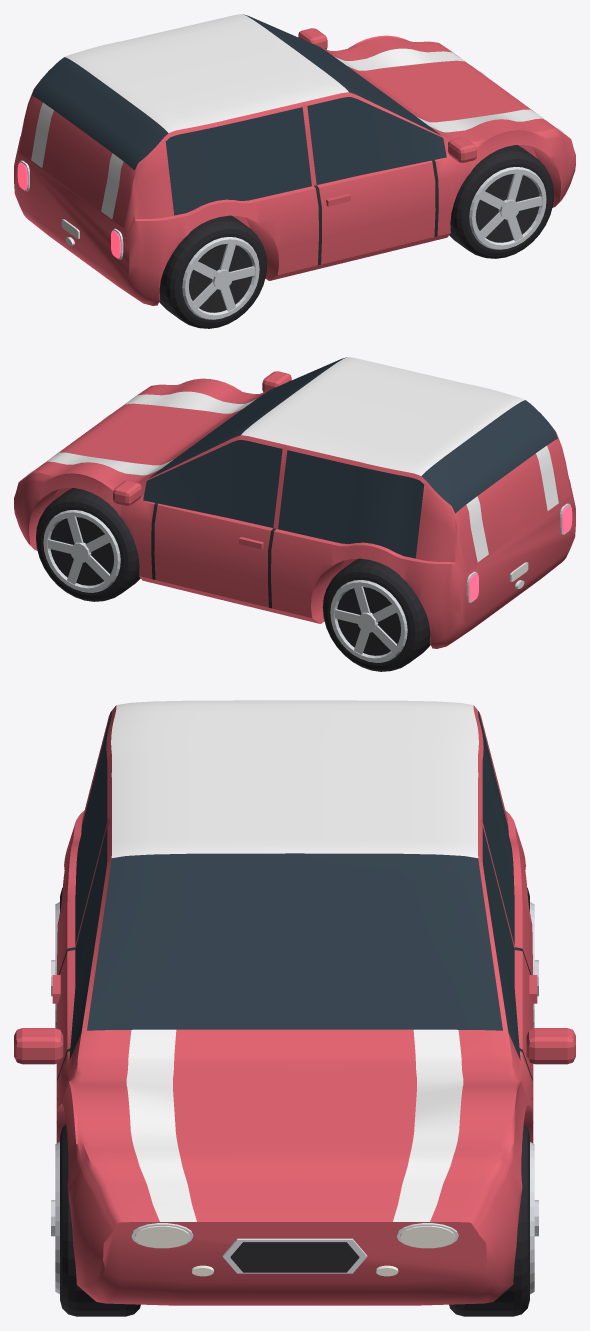
The model's file is mini_kooper.fbx.
3 views of the same model, one above another, from view 1: azimuth 30°, elevation 25°; view 2: azimuth 150°, elevation 25°; view 3: azimuth 270°, elevation 25° (orthographic). The views are drawn at different scales.
Visible parts, largest first — view 1: Body.021, Glass.021, Stripe.003, Tire.021, Rim.021, Trim.021, TailLight.021; view 2: Body.021, Glass.021, Stripe.003, Tire.021, Rim.021, Trim.021, TailLight.021; view 3: Body.021, Glass.021, Stripe.003, Tire.021, Trim.021, Rim.021, HeadLight.021, Chrome.019.
Part boxes in pixels (x1,y1,x2,y2): Body.021: (14,28,575,305); Glass.021: (32,14,446,215); Stripe.003: (31,14,557,219); Tire.021: (159,145,553,328); Rim.021: (182,167,546,319); Trim.021: (189,160,539,312); TailLight.021: (17,162,120,258); Body.021: (14,371,575,648); Glass.021: (143,357,557,558); Stripe.003: (32,357,558,562); Tire.021: (36,488,430,671); Rim.021: (43,510,407,662); Trim.021: (151,503,400,655); TailLight.021: (469,505,572,601); Body.021: (14,705,575,1305); Glass.021: (69,711,520,1060); Stripe.003: (111,700,478,1221); Tire.021: (60,888,529,1316); Trim.021: (56,947,533,1272); Rim.021: (51,902,538,1294); HeadLight.021: (134,1226,455,1276); Chrome.019: (131,1223,458,1273).
Size of the model in its own units: 1094 by 455 by 684.
